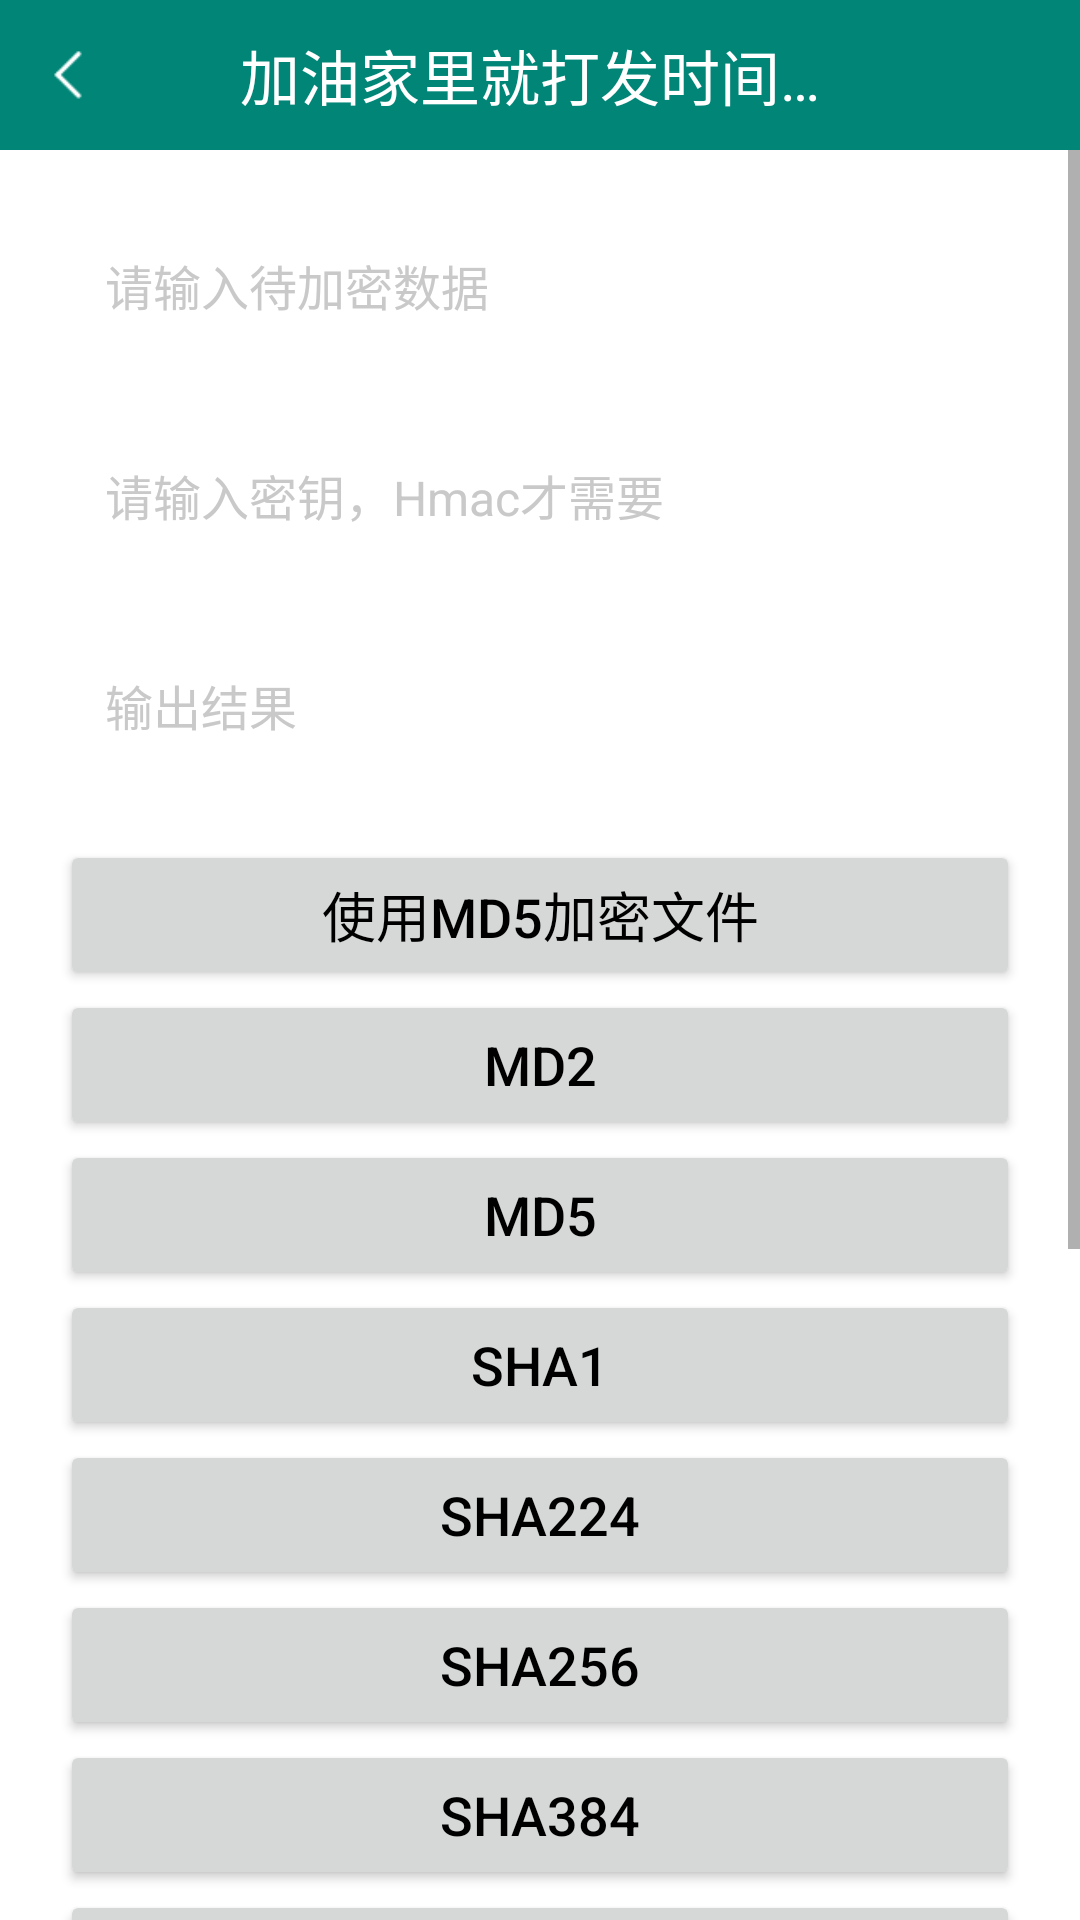

Where to tap for icons on this 1080*1920 app screen, as (x,y):
back: (68,75)
